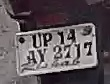1: (72, 42, 84, 60), (55, 30, 66, 46)
2: (50, 45, 63, 60)
4: (64, 28, 78, 42)
7: (81, 41, 95, 57), (63, 44, 73, 59)
A: (25, 50, 37, 65)
P: (42, 31, 52, 47)
U: (32, 32, 42, 49)
Y: (35, 48, 47, 63)
